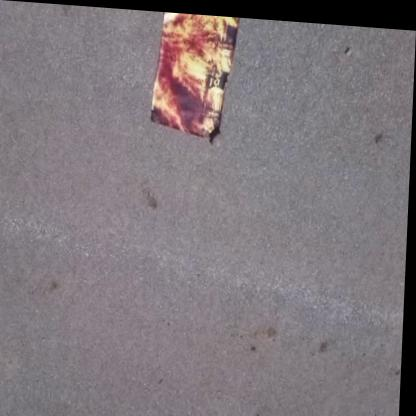fire-poster: (149, 10, 241, 143)
